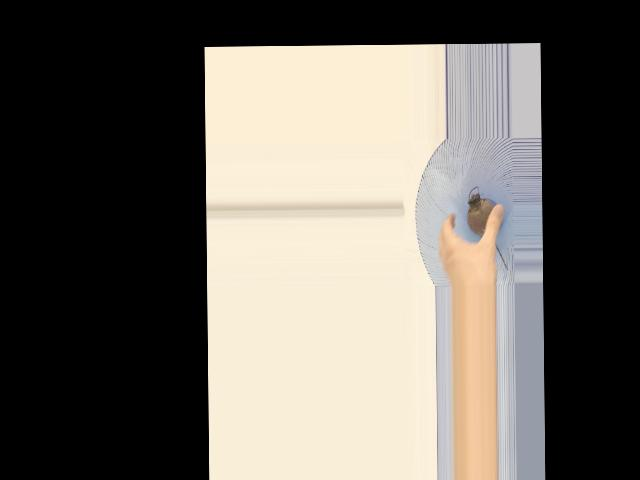beet: (467, 185, 508, 269)
